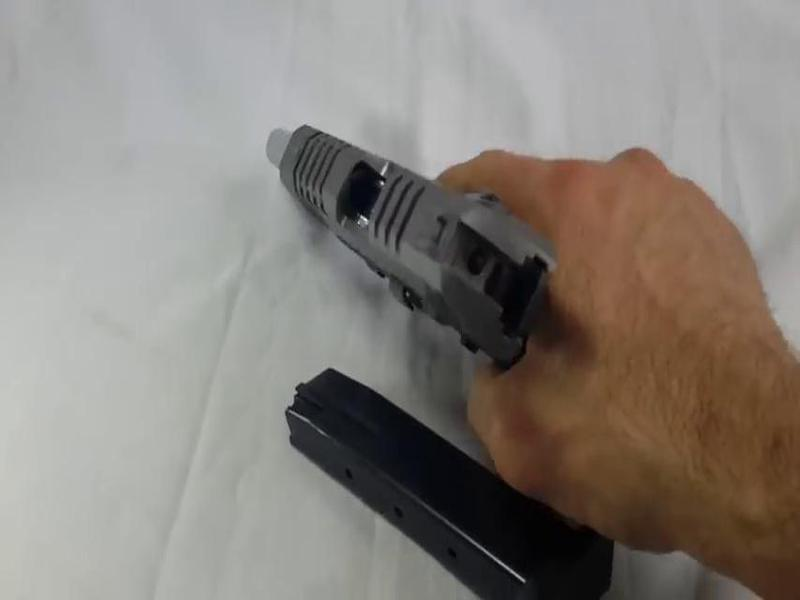Pistola: (255, 95, 586, 383)
